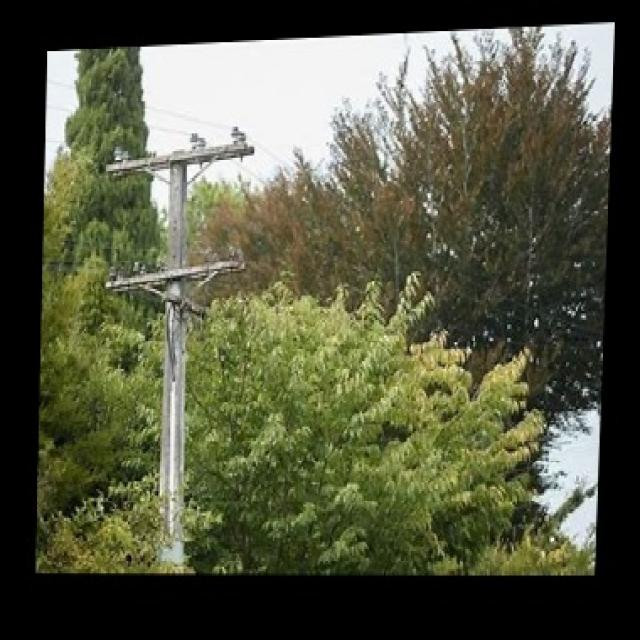utility poles: (96, 114, 267, 552)
